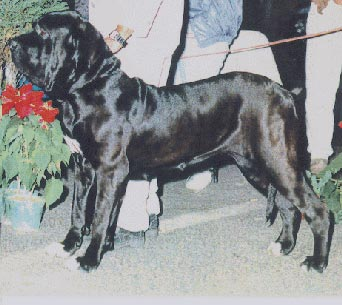fila_brasileiro: (9, 10, 335, 274)
person: (88, 0, 184, 248), (175, 0, 244, 191), (306, 0, 342, 171)
